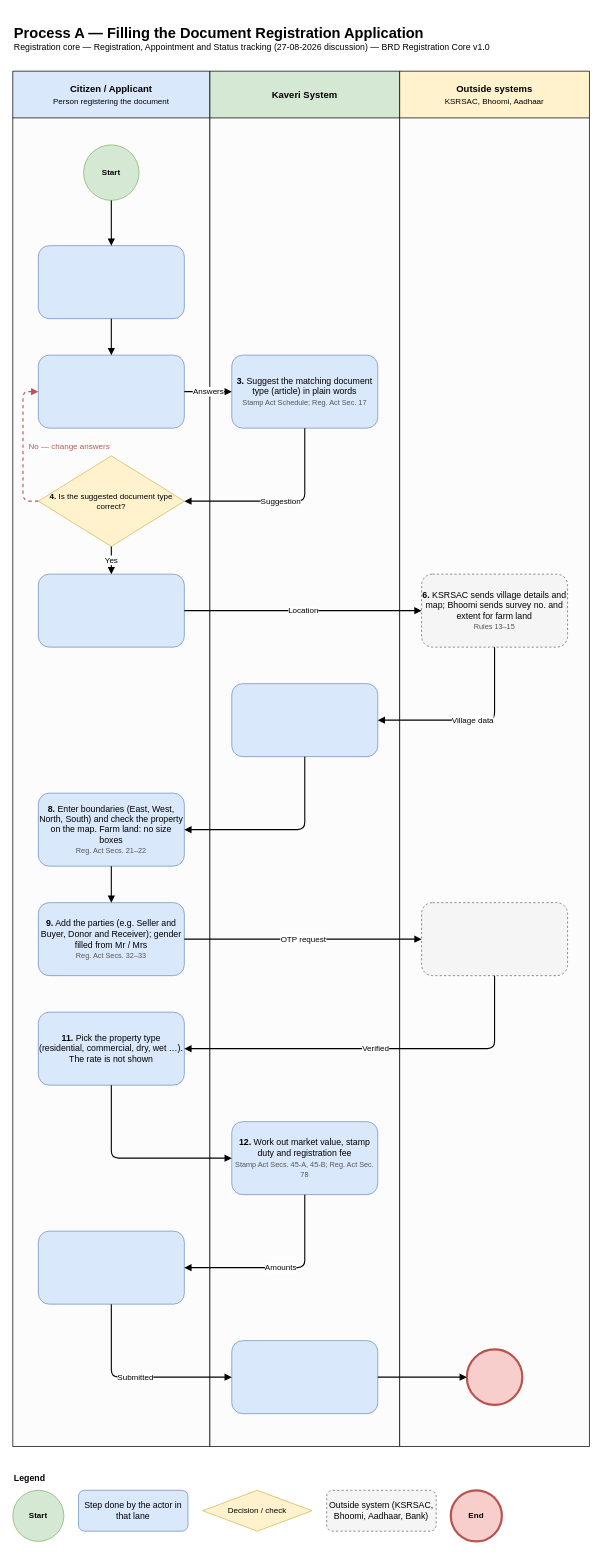
Image size: 602x1555. Some labels were removed from this diagram. Each missing label, with the centre of its shape:
1. Log in and choose “Register a document”: [111,282]
10. Aadhaar sends an OTP that names this service; each party confirms: [494,939]
13. Check the full summary (preview) and submit: [111,1267]
14. Give an application number and send it to the Sub-Registrar: [304,1377]
2. Answer a few simple questions about the deal (sale, gift, partition, loan …): [111,391]
5. Choose where the property is: district, taluk, village: [111,610]
7. Find the right Sub-Registrar office for this property Reg. Act Sec. 28: [304,720]
End Go to B: [494,1377]
